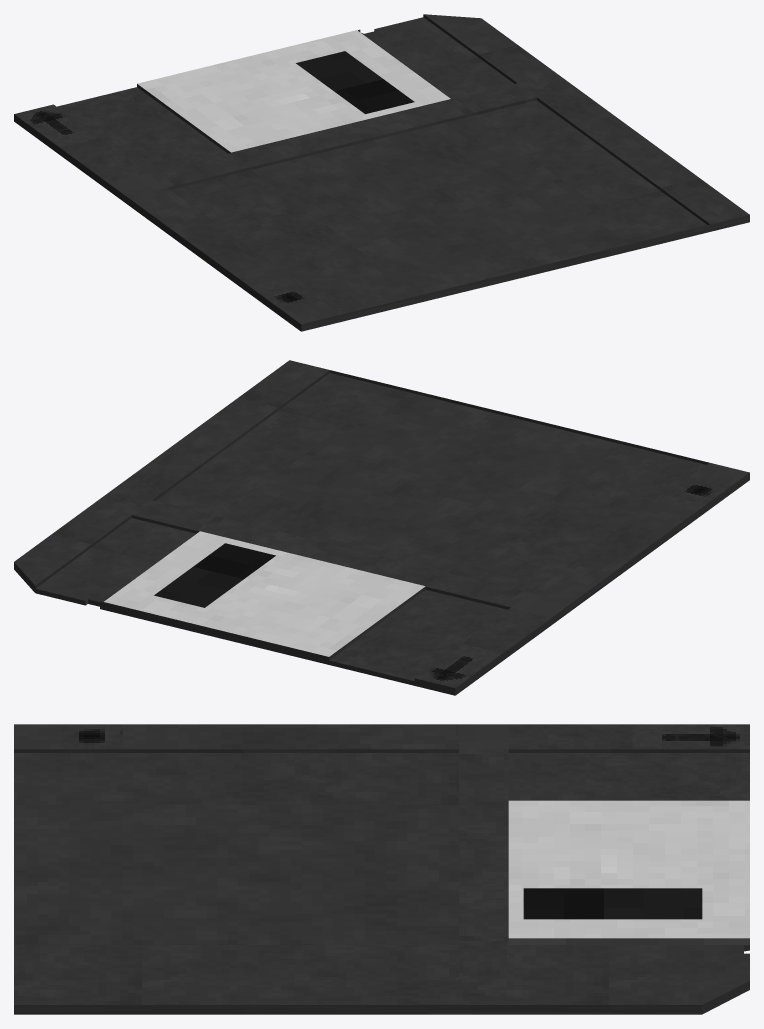
The model's file is Floppy.fbx.
3 views of the same model, one above another, from view 1: azimuth 30°, elevation 25°; view 2: azimuth 150°, elevation 25°; view 3: azimuth 270°, elevation 25° (orthographic). The views are drawn at different scales.
Parts seen in each view (by area): view 1: Cube; view 2: Cube; view 3: Cube.
Boxes of the visible parts, x1,y1,x2,y2 form: Cube: (14, 14, 749, 331); Cube: (14, 360, 749, 695); Cube: (14, 724, 749, 1014).
Bounding box in the file's own units: 127 × 2.11 × 140.
